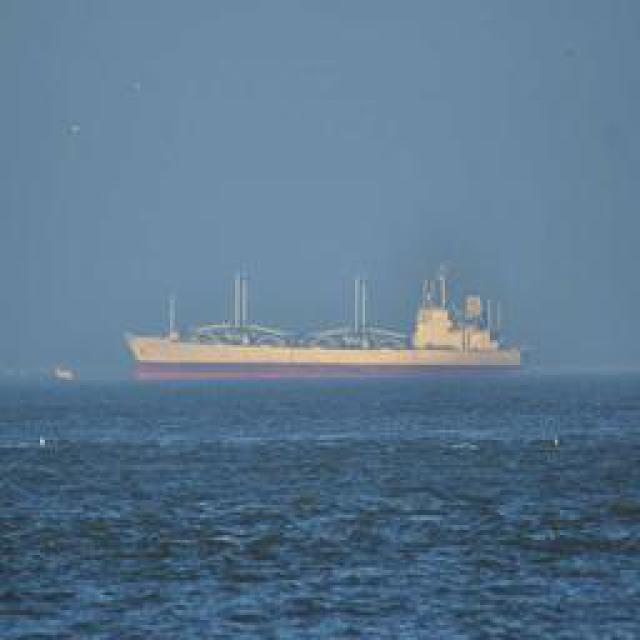Ship: (130, 270, 520, 383)
